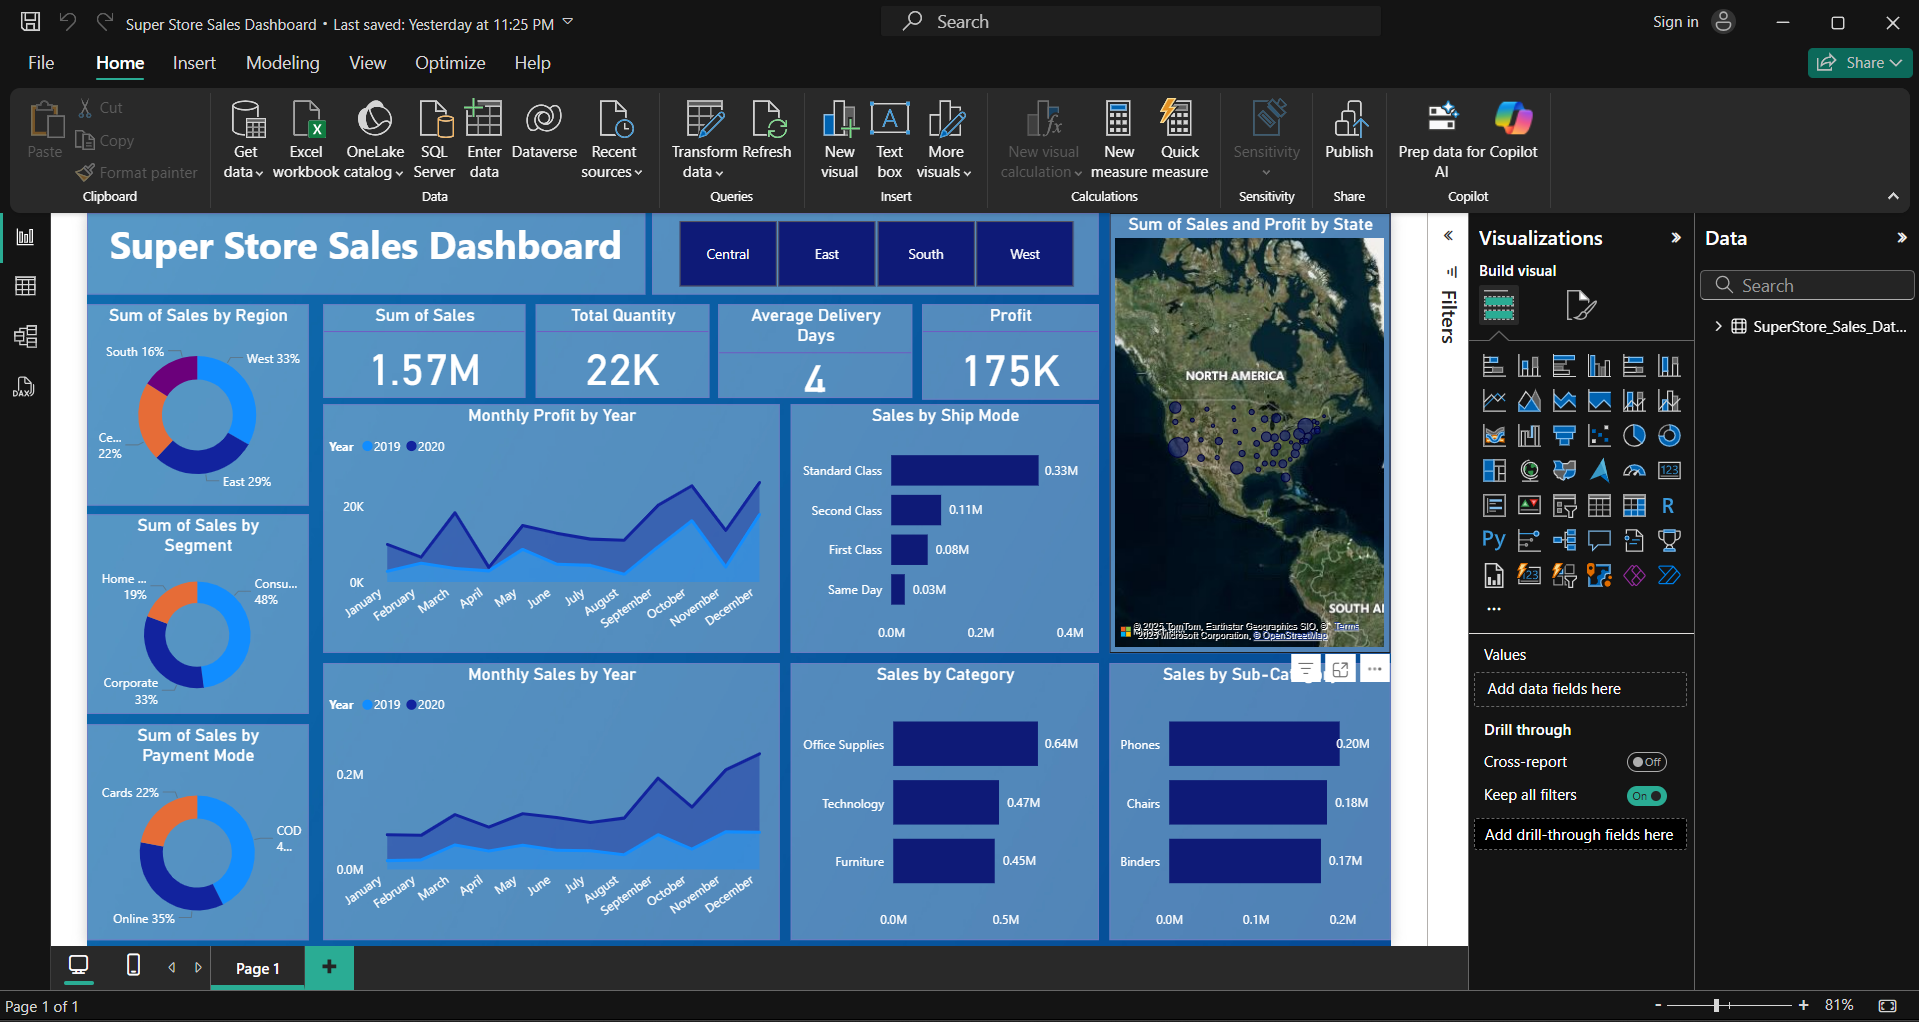

What the dashboard file says about the page in this screenshot:
{"tool":"powerbi","page":{"name":"Page 1","canvas":[1280,720],"ordinal":0},"visuals":[{"type":"clusteredBarChart","title":"Sales by Category","fields":{"Y":["Sum(SuperStore_Sales_Dataset.Sales)"],"Category":["SuperStore_Sales_Dataset.Category"]},"box":[690.7,441.3,302.7,272],"z":0},{"type":"clusteredBarChart","title":"Sales by Sub-Category","fields":{"Y":["Sum(SuperStore_Sales_Dataset.Sales)"],"Category":["SuperStore_Sales_Dataset.Sub-Category"]},"box":[1004,441.3,276,272],"z":1},{"type":"clusteredBarChart","title":"Sales by Ship Mode","fields":{"Y":["Sum(SuperStore_Sales_Dataset.Sales)"],"Category":["SuperStore_Sales_Dataset.Ship Mode"]},"box":[690.7,188,302.7,244],"z":2},{"type":"stackedAreaChart","title":"Monthly Sales by Year","fields":{"Y":["Sum(SuperStore_Sales_Dataset.Sales)"],"Series":["SuperStore_Sales_Dataset.Order Date.Variation.Date Hierarchy.Year"],"Category":["SuperStore_Sales_Dataset.Order Date.Variation.Date Hierarchy.Quarter","SuperStore_Sales_Dataset.Order Date.Variation.Date Hierarchy.Month","SuperStore_Sales_Dataset.Order Date.Variation.Date Hierarchy.Day"]},"box":[232,441.3,448,272],"z":3},{"type":"stackedAreaChart","title":"Monthly Profit by Year","fields":{"Series":["SuperStore_Sales_Dataset.Order Date.Variation.Date Hierarchy.Year"],"Category":["SuperStore_Sales_Dataset.Order Date.Variation.Date Hierarchy.Quarter","SuperStore_Sales_Dataset.Order Date.Variation.Date Hierarchy.Month","SuperStore_Sales_Dataset.Order Date.Variation.Date Hierarchy.Day"],"Y":["Sum(SuperStore_Sales_Dataset.Profit)"]},"box":[232,188,448,244],"z":4},{"type":"map","title":"Sum of Sales and Profit by State","fields":{"Category":["SuperStore_Sales_Dataset.State"],"Size":["Sum(SuperStore_Sales_Dataset.Sales)"]},"box":[1004,0,276,432],"z":5},{"type":"donutChart","fields":{"Category":["SuperStore_Sales_Dataset.Segment"],"Y":["Sum(SuperStore_Sales_Dataset.Sales)"]},"box":[0,296,217.3,196],"z":6},{"type":"donutChart","fields":{"Y":["Sum(SuperStore_Sales_Dataset.Sales)"],"Category":["SuperStore_Sales_Dataset.Payment Mode"]},"box":[0,501.3,217.3,212],"z":7},{"type":"slicer","fields":{"Values":["SuperStore_Sales_Dataset.Region"]},"box":[554.7,0,438.7,80],"z":8},{"type":"textbox","box":[0,0,548,80],"z":9},{"type":"card","title":"Sum of Sales","fields":{"Values":["Sum(SuperStore_Sales_Dataset.Sales)"]},"box":[232,89.3,198.7,92],"z":10},{"type":"card","title":"Profit","fields":{"Values":["Sum(SuperStore_Sales_Dataset.Profit)"]},"box":[820,89.3,173.3,93.3],"z":11},{"type":"card","title":"Total Quantity","fields":{"Values":["Sum(SuperStore_Sales_Dataset.Quantity)"]},"box":[440,89.3,170.7,92],"z":12},{"type":"card","title":"Average Delivery Days","fields":{"Values":["Avg(SuperStore_Sales_Dataset.AvgDelivery)"]},"box":[620,89.3,190.7,92],"z":13},{"type":"donutChart","fields":{"Y":["Sum(SuperStore_Sales_Dataset.Sales)"],"Category":["SuperStore_Sales_Dataset.Region"]},"box":[0,89.3,217.3,197.3],"z":14}]}

Visuals, with their boxes on the page's 1280x720 design canvas (x1, y1, x2, y2). These are canvas units, not pixel positions in the 1919x1022 screenshot, which may show the page scaled, cropped or inside an application window:
"Sales by Category" clusteredBarChart: l=691, t=441, r=993, b=713
"Sales by Sub-Category" clusteredBarChart: l=1004, t=441, r=1280, b=713
"Sales by Ship Mode" clusteredBarChart: l=691, t=188, r=993, b=432
"Monthly Sales by Year" stackedAreaChart: l=232, t=441, r=680, b=713
"Monthly Profit by Year" stackedAreaChart: l=232, t=188, r=680, b=432
"Sum of Sales and Profit by State" map: l=1004, t=0, r=1280, b=432
donutChart - SuperStore_Sales_Dataset.Segment x Sum(SuperStore_Sales_Dataset.Sales): l=0, t=296, r=217, b=492
donutChart - Sum(SuperStore_Sales_Dataset.Sales) x SuperStore_Sales_Dataset.Payment Mode: l=0, t=501, r=217, b=713
slicer - SuperStore_Sales_Dataset.Region: l=555, t=0, r=993, b=80
textbox: l=0, t=0, r=548, b=80
"Sum of Sales" card: l=232, t=89, r=431, b=181
"Profit" card: l=820, t=89, r=993, b=183
"Total Quantity" card: l=440, t=89, r=611, b=181
"Average Delivery Days" card: l=620, t=89, r=811, b=181
donutChart - Sum(SuperStore_Sales_Dataset.Sales) x SuperStore_Sales_Dataset.Region: l=0, t=89, r=217, b=287
